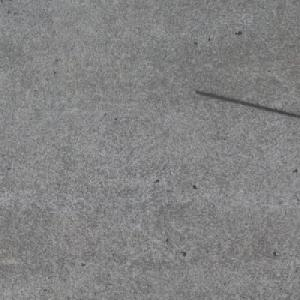LuggagePart: (193, 90, 300, 118)
